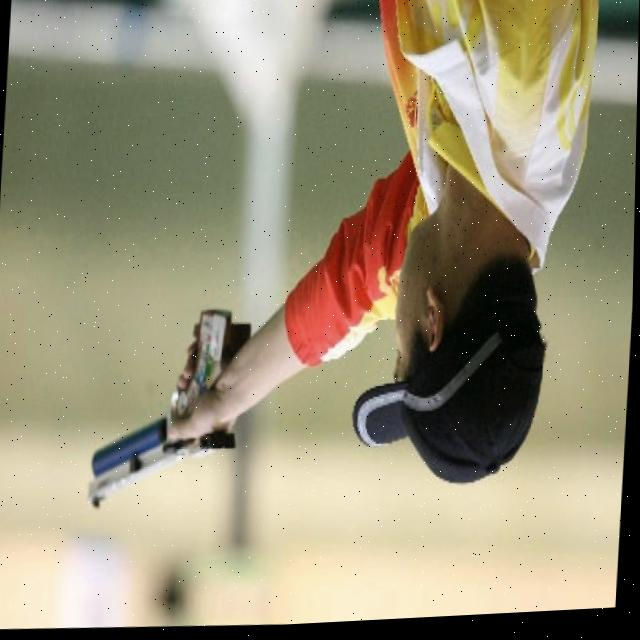pistol: (89, 305, 245, 515)
